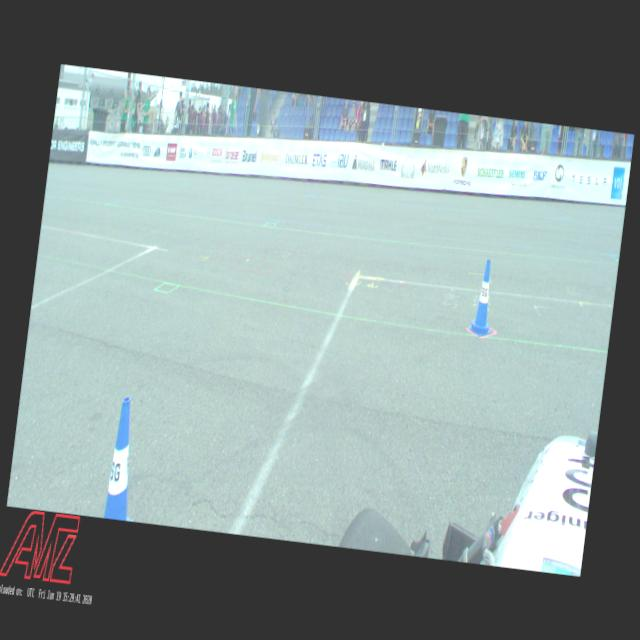blue_cone: (104, 396, 147, 520), (466, 257, 499, 338)
